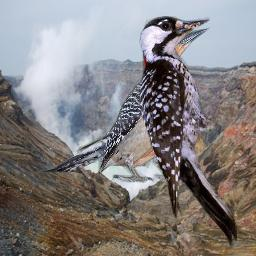Woodpecker: (39, 25, 212, 183), (137, 16, 237, 247)
